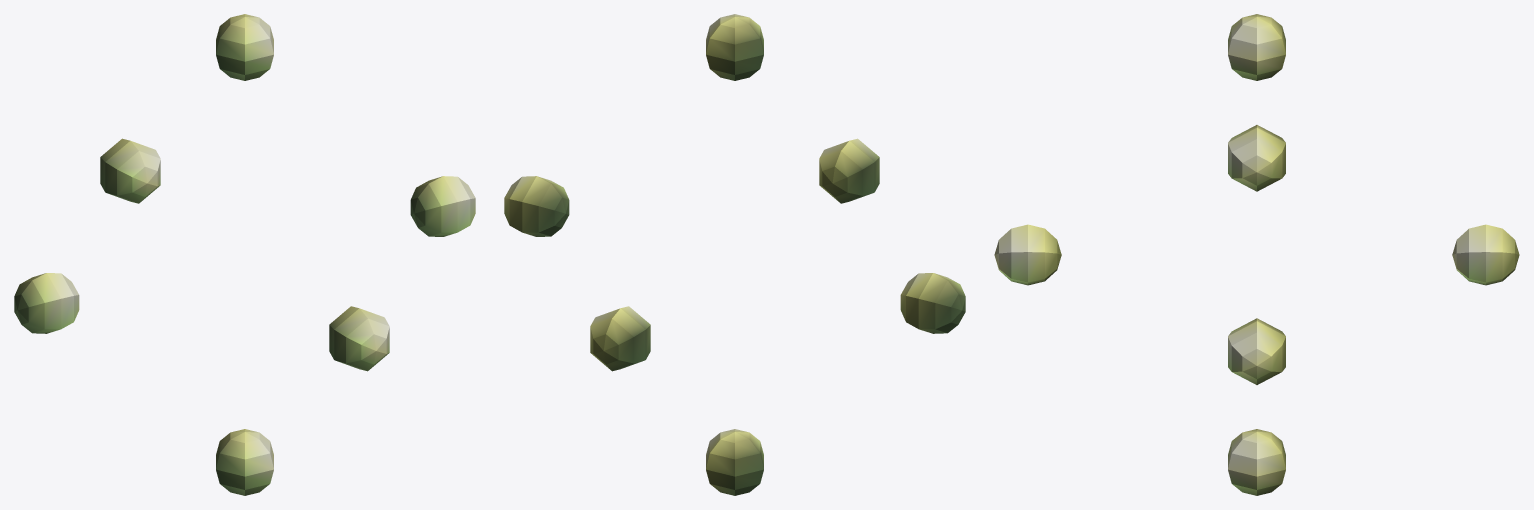
Rendered from shiningstonered.dae.
The picture shows the model from 3 angles, left to right: view 1: azimuth 30°, elevation 25°; view 2: azimuth 150°, elevation 25°; view 3: azimuth 270°, elevation 25°; orthographic projection.
Parts seen in each view (by area): view 1: m0; view 2: m0; view 3: m0.
Boxes of the visible parts, box(x1,y1,x2,y2) form: m0: box(14, 14, 475, 495); m0: box(504, 14, 965, 495); m0: box(994, 14, 1519, 495).
Bounding box in the file's own units: 1828 × 1828 × 1828.
